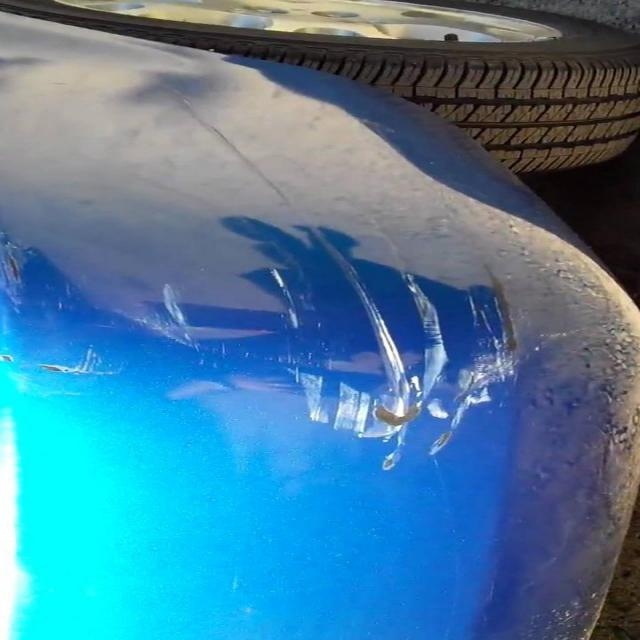scratch: (138, 248, 560, 474)
